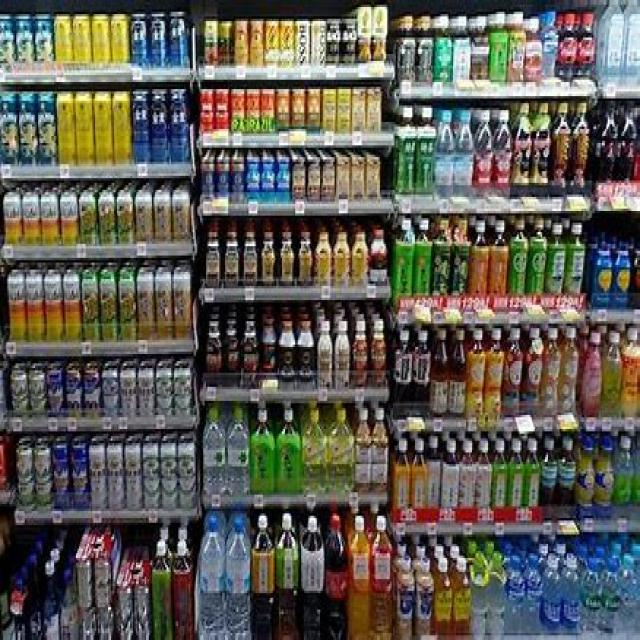Beverages: (326, 513, 350, 633)
